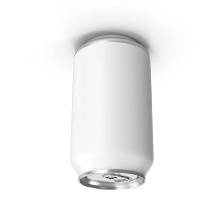can: (64, 27, 158, 197)
